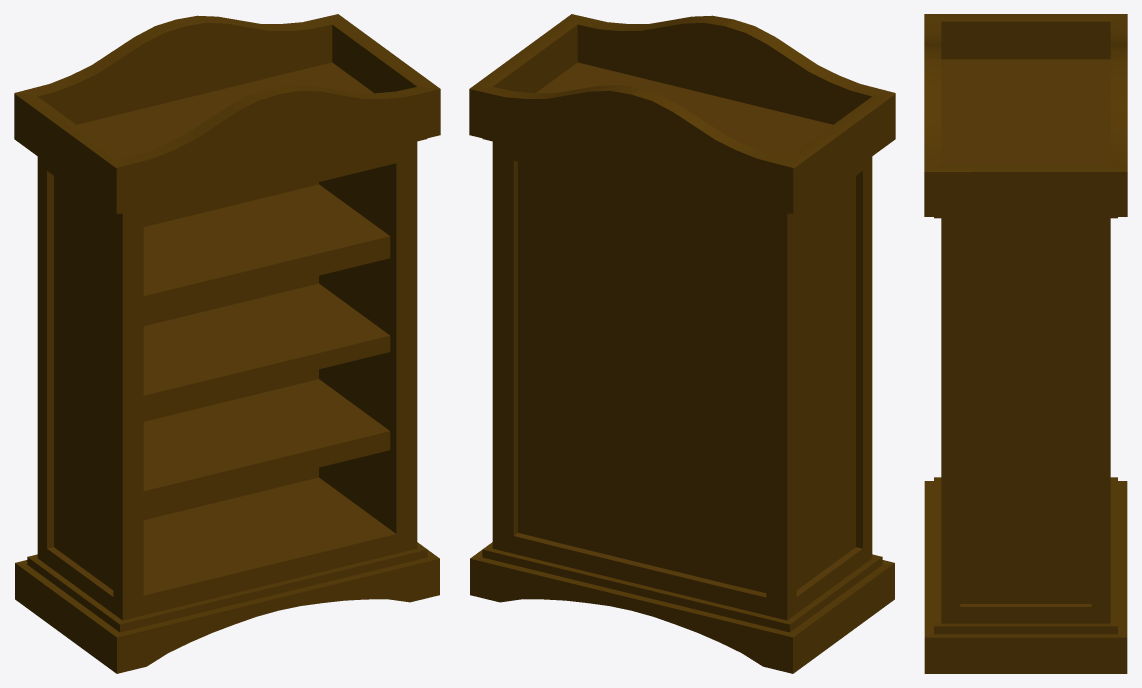
Rendered from Bookshelf_B_low.fbx.
3 renders of one model, left to right at view 1: azimuth 30°, elevation 25°; view 2: azimuth 150°, elevation 25°; view 3: azimuth 270°, elevation 25°, orthographic.
Visible parts, largest first — view 1: Bookshelf_B_low; view 2: Bookshelf_B_low; view 3: Bookshelf_B_low.
Boxes of the visible parts, box(x1,y1,x2,y2) form: Bookshelf_B_low: box(14, 14, 440, 673); Bookshelf_B_low: box(469, 14, 895, 673); Bookshelf_B_low: box(924, 14, 1127, 673).
Bounding box in the file's own units: 165 × 263 × 90.36.
